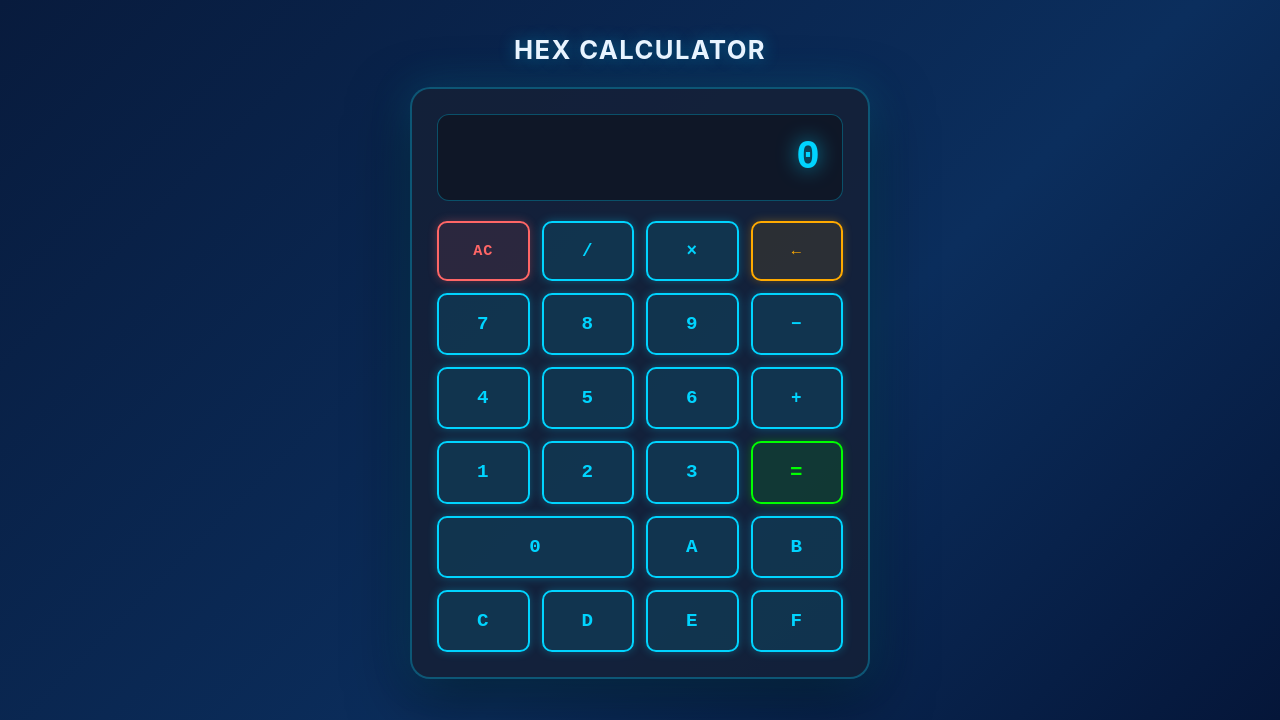
Test: Hex Number Buttons › does not allow more than 2 digits
Click the button with test id "btn-1": point(483, 472) 437,440 -> 530,504
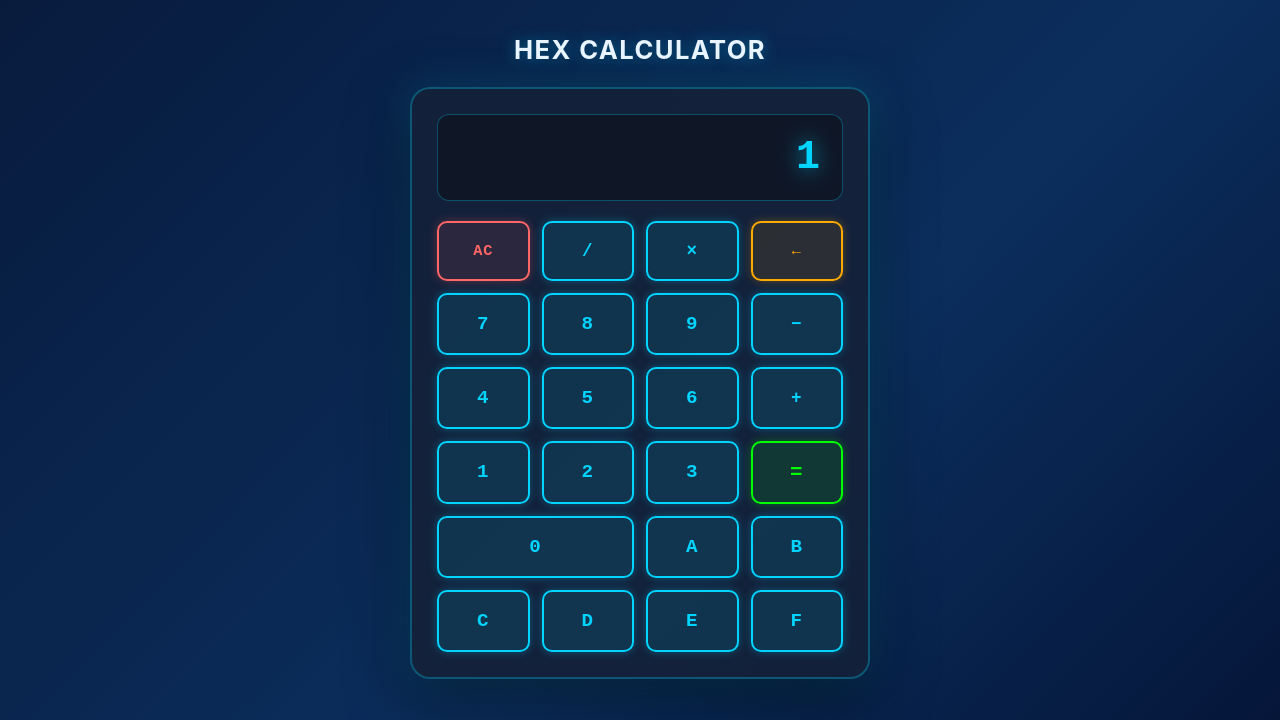
Click the button with test id "btn-2": point(588, 472) 542,440 -> 634,504
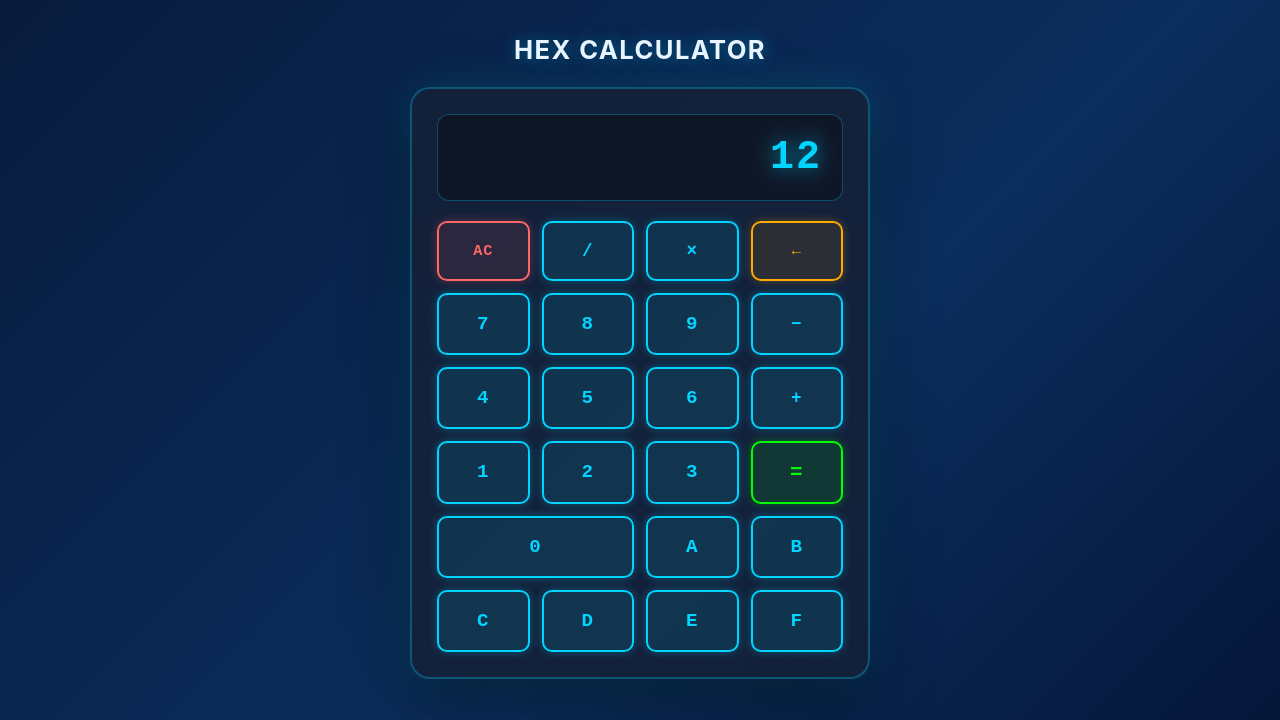
Click the button with test id "btn-3": point(692, 472) 646,440 -> 738,504
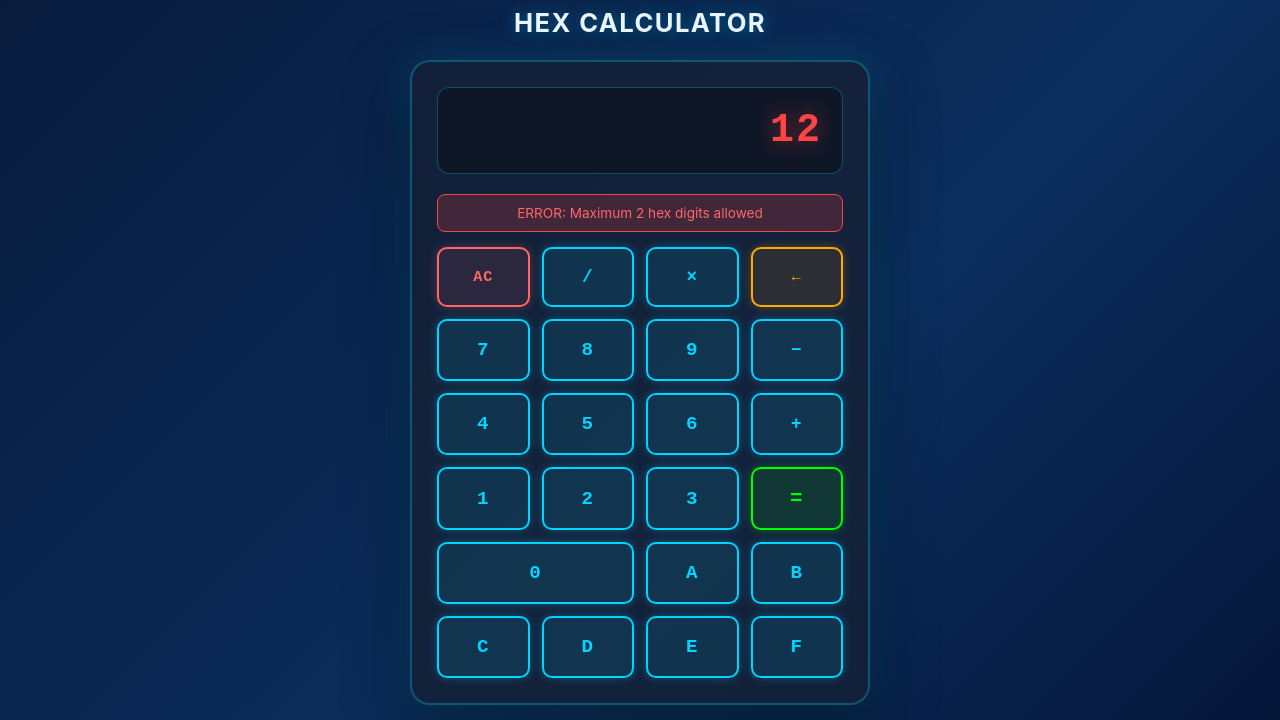
expect the text with test id "error-message" reads "ERROR: Maximum 2 hex digits allowed": met, box 517,205 -> 763,221
